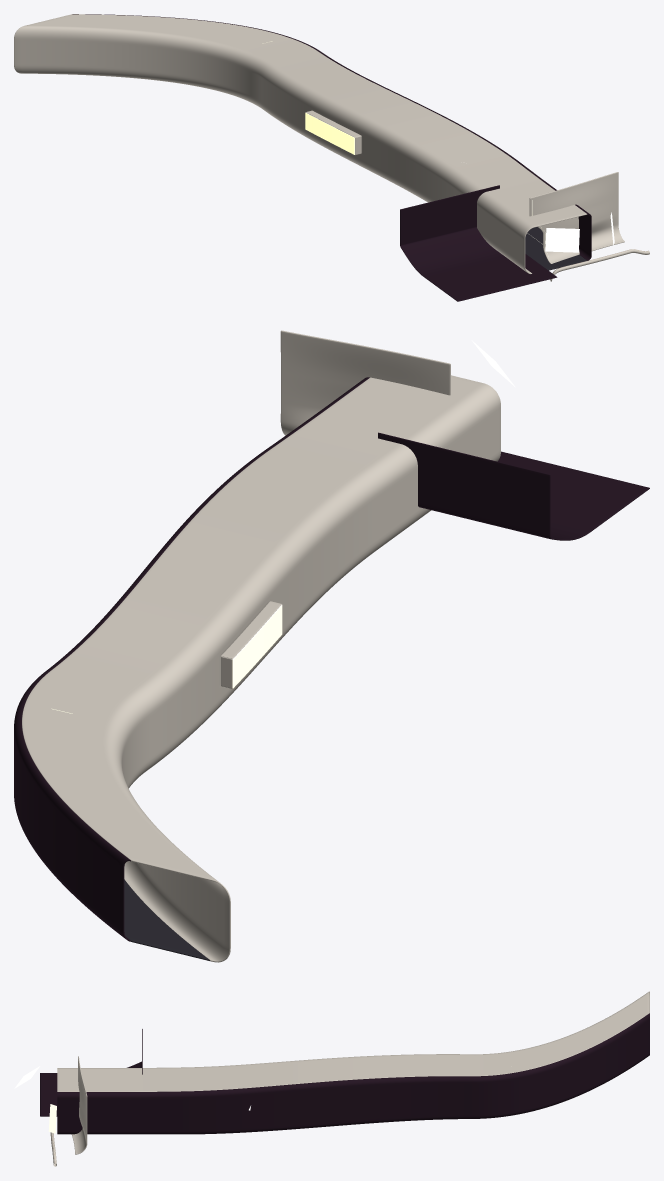
The model's file is chamber.glb.
The picture shows the model from 3 angles, top to bottom: view 1: azimuth 30°, elevation 25°; view 2: azimuth 150°, elevation 25°; view 3: azimuth 270°, elevation 25°; orthographic projection. The views are drawn at different scales.
Parts seen in each view (by area): view 1: Shared_Unfolding_Canopy, Retained_Hero_Wing_And_Floor, Shared_Sculpted_Cove, Deep_Burgundy_Continuous_Return, Warm_Recessed_Lightwell, Warm portrait softbox, Shared_Sculpted_Foreground; view 2: Shared_Unfolding_Canopy, Retained_Hero_Wing_And_Floor, Deep_Burgundy_Continuous_Return, Shared_Sculpted_Cove, Warm_Recessed_Lightwell; view 3: Deep_Burgundy_Continuous_Return, Shared_Unfolding_Canopy, Retained_Hero_Wing_And_Floor, Shared_Sculpted_Cove.
Part boxes in pixels (x1,y1,x2,y2): Shared_Unfolding_Canopy: (14, 14, 587, 274); Retained_Hero_Wing_And_Floor: (400, 185, 557, 301); Shared_Sculpted_Cove: (529, 172, 624, 263); Deep_Burgundy_Continuous_Return: (72, 14, 591, 260); Warm_Recessed_Lightwell: (305, 112, 354, 154); Warm portrait softbox: (545, 228, 579, 252); Shared_Sculpted_Foreground: (550, 249, 649, 281); Shared_Unfolding_Canopy: (22, 375, 500, 962); Retained_Hero_Wing_And_Floor: (378, 432, 649, 540); Deep_Burgundy_Continuous_Return: (14, 377, 369, 941); Shared_Sculpted_Cove: (280, 330, 450, 435); Warm_Recessed_Lightwell: (232, 604, 282, 688); Deep_Burgundy_Continuous_Return: (57, 1013, 649, 1134); Shared_Unfolding_Canopy: (57, 991, 649, 1091); Retained_Hero_Wing_And_Floor: (40, 1029, 142, 1116); Shared_Sculpted_Cove: (71, 1056, 87, 1154).
Bounding box in the file's own units: 72.3 × 17.1 × 149.
